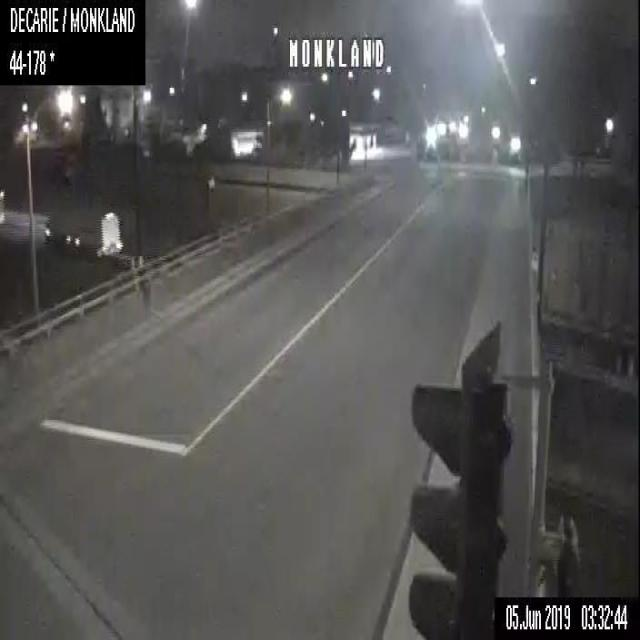vehicle: (40, 208, 124, 259)
